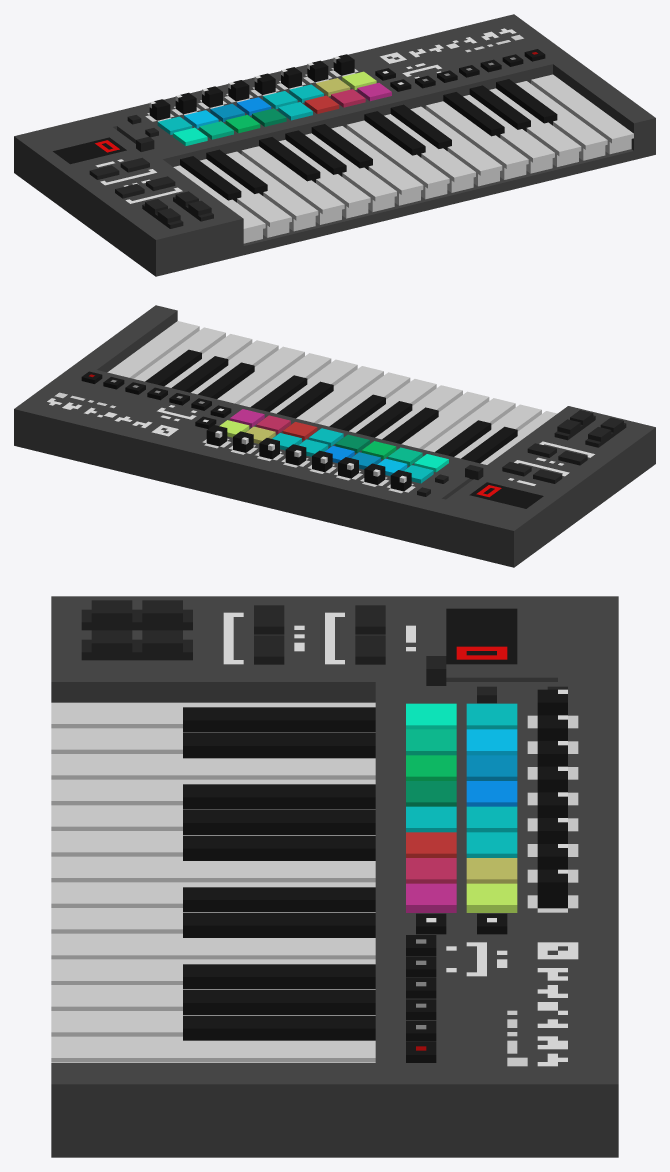
The model's file is voxel_midi_controller.glb.
The picture shows the model from 3 angles, top to bottom: view 1: azimuth 30°, elevation 25°; view 2: azimuth 150°, elevation 25°; view 3: azimuth 270°, elevation 25°; orthographic projection. The views are drawn at different scales.
Visible parts, largest first — view 1: default, Object002, Object003, Object001, decals, decals02, screen; view 2: default, Object002, Object003, Object001, decals, decals02, screen; view 3: default, Object002, Object001, Object003, decals, screen, decals02.
Boxes of the visible parts, x1,y1,x2,y2 form: default: (14,14,655,276); Object002: (173,74,633,243); Object003: (89,49,545,228); Object001: (180,79,557,202); decals: (95,68,358,203); decals02: (380,28,523,78); screen: (53,137,126,164); default: (14,305,655,567); Object002: (107,321,557,464); Object003: (81,371,626,496); Object001: (145,349,517,463); decals: (202,438,594,493); decals02: (47,392,196,436); screen: (469,482,543,508); default: (51,596,618,1157); Object002: (51,702,375,1062); Object001: (183,707,375,1040); Object003: (81,600,567,1062); decals: (223,612,578,912); screen: (446,608,517,664); decals02: (446,942,578,1066).
Size of the model in its own units: 114 by 10.87 by 56.
Materials: 1 (1 with a texture image).
